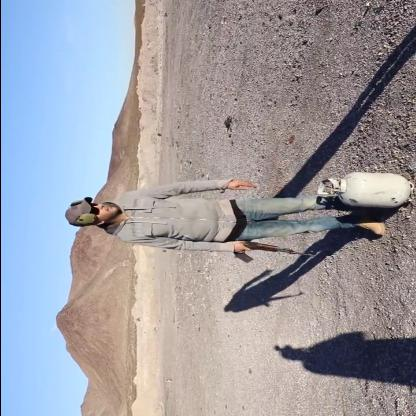long weapon: (220, 240, 322, 264)
